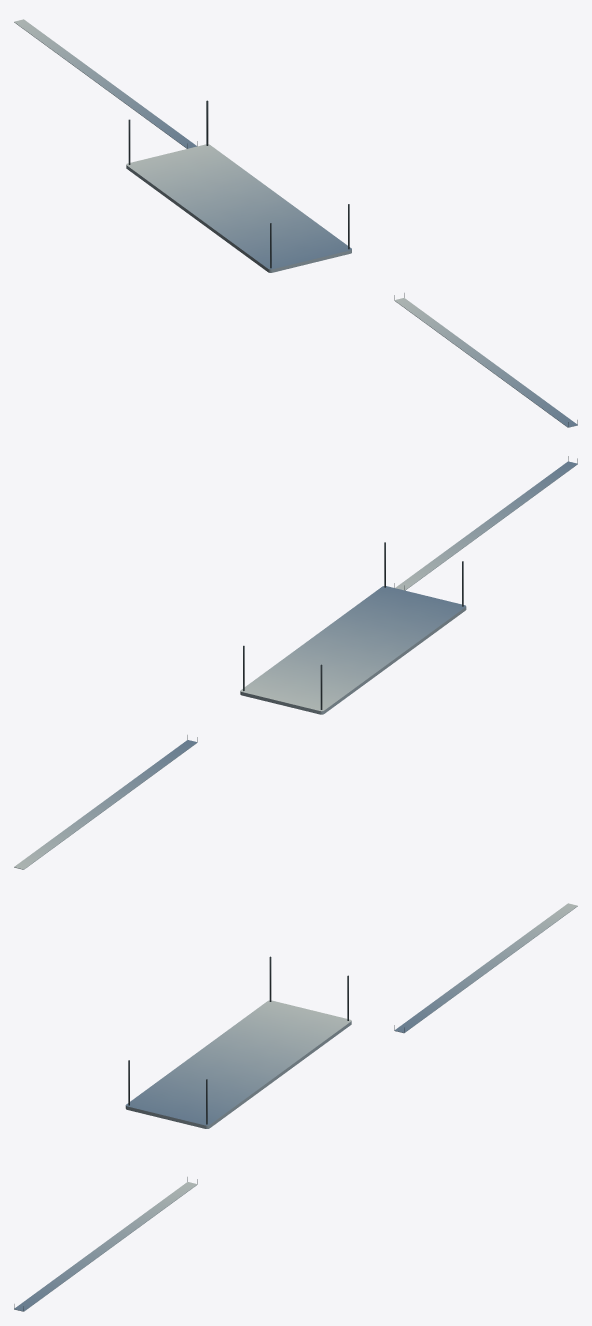
Rendered from Shop Light.glb.
3 views of the same model, one above another, from view 1: azimuth 30°, elevation 25°; view 2: azimuth 150°, elevation 25°; view 3: azimuth 330°, elevation 25° (orthographic).
Parts seen in each view (by area): view 1: Shop Lights; view 2: Shop Lights; view 3: Shop Lights.
Boxes of the visible parts, bbox=[...] form: Shop Lights: bbox=[14, 19, 577, 427]; Shop Lights: bbox=[14, 456, 577, 869]; Shop Lights: bbox=[14, 903, 577, 1311].
Size of what is drawn, in the model's own units: 5.59 by 3.9 by 51.72.
2 materials, 1 textured.
